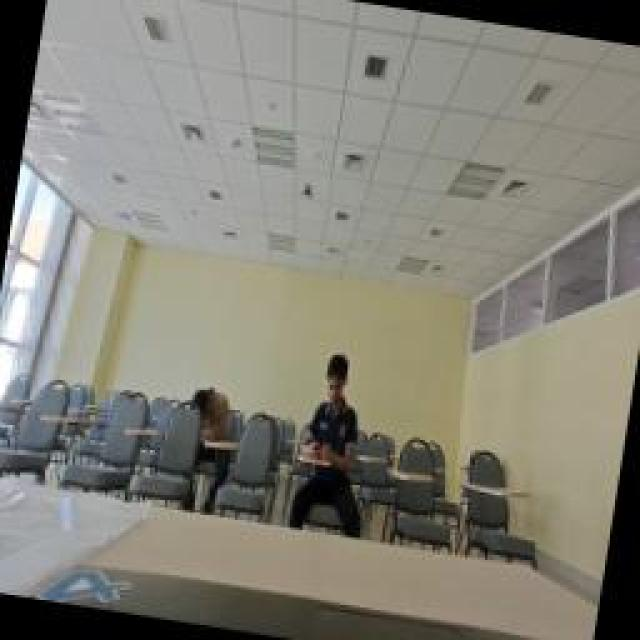phone: (298, 348, 370, 468)
sleep: (180, 380, 235, 442)
